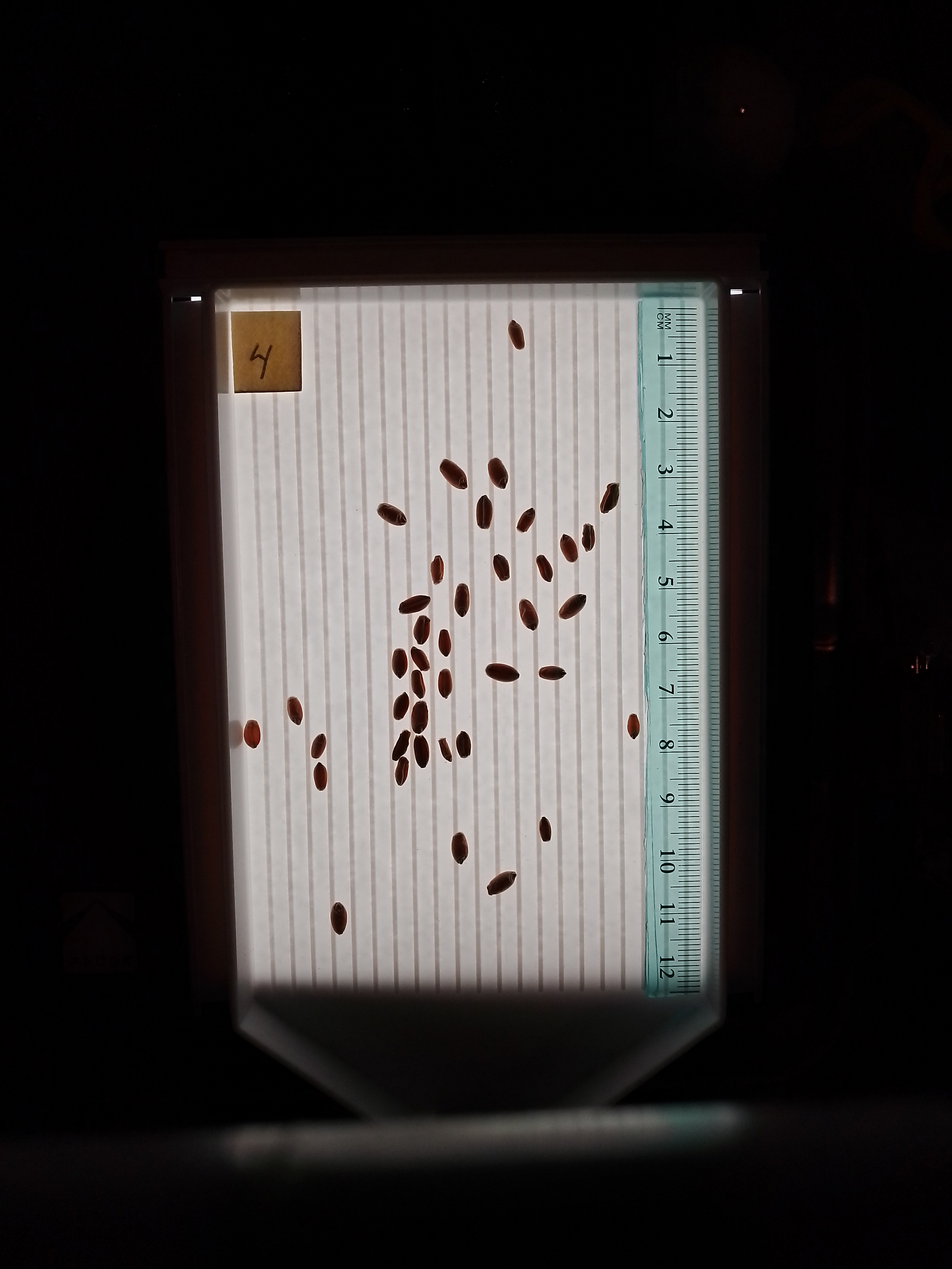seed mask: (440, 460, 467, 490), (559, 594, 586, 620), (487, 872, 516, 896), (378, 503, 407, 526), (486, 664, 519, 683), (488, 458, 508, 489), (600, 483, 620, 513), (519, 599, 538, 630), (399, 595, 430, 614), (476, 496, 493, 529), (411, 701, 428, 733), (451, 833, 468, 864), (414, 736, 430, 767), (331, 903, 347, 934), (560, 535, 578, 562), (508, 321, 525, 349), (244, 720, 261, 748), (454, 585, 469, 615), (414, 617, 430, 645), (393, 732, 410, 758), (411, 648, 429, 671), (493, 556, 510, 580), (392, 649, 407, 676), (288, 697, 303, 724), (393, 694, 409, 719), (431, 556, 445, 584), (518, 509, 535, 532), (537, 556, 552, 582), (395, 758, 409, 785), (313, 763, 327, 790), (457, 733, 472, 758), (311, 734, 326, 759), (581, 524, 595, 550), (539, 666, 565, 680), (411, 671, 425, 697), (626, 714, 640, 739), (439, 671, 452, 697), (538, 818, 552, 842), (439, 630, 451, 654), (440, 739, 452, 761)
